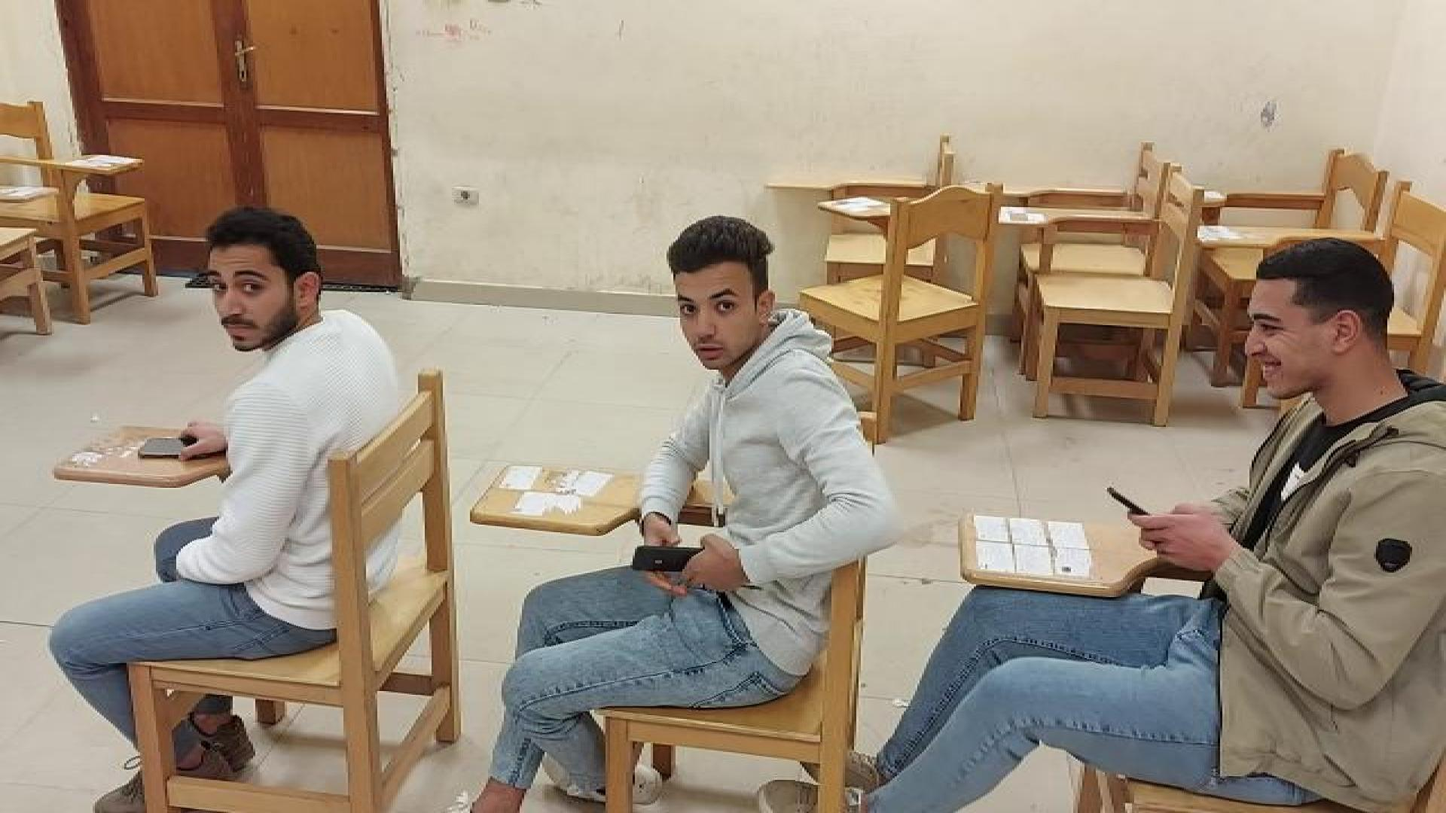phone: (627, 541, 704, 575), (1103, 483, 1166, 522), (134, 435, 207, 461)
